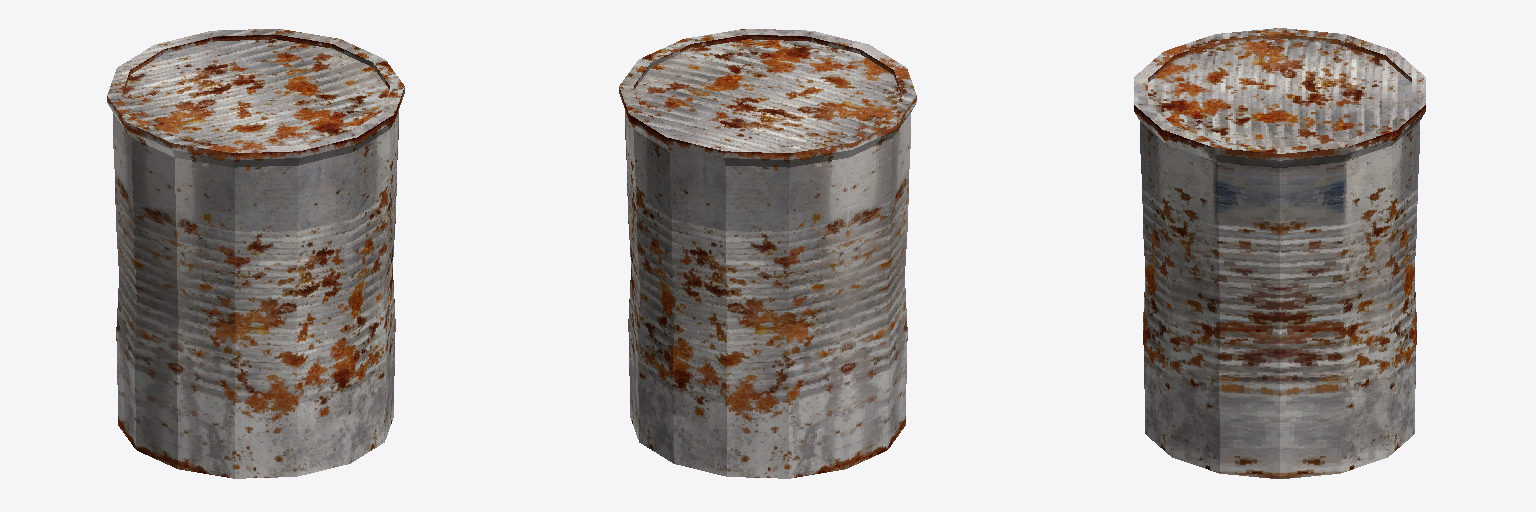
The picture shows the model from 3 angles: view 1: azimuth 30°, elevation 25°; view 2: azimuth 150°, elevation 25°; view 3: azimuth 270°, elevation 25°; orthographic projection.
Parts seen in each view (by area): view 1: def_surf_mat; view 2: def_surf_mat; view 3: def_surf_mat.
Part boxes in pixels (left/top/right/bottom): def_surf_mat: left=107, top=29, right=404, bottom=478; def_surf_mat: left=619, top=29, right=916, bottom=478; def_surf_mat: left=1134, top=28, right=1425, bottom=478.
Bounding box in the file's own units: 4.84 × 5.9 × 4.72.
Materials: 1 (1 with a texture image).